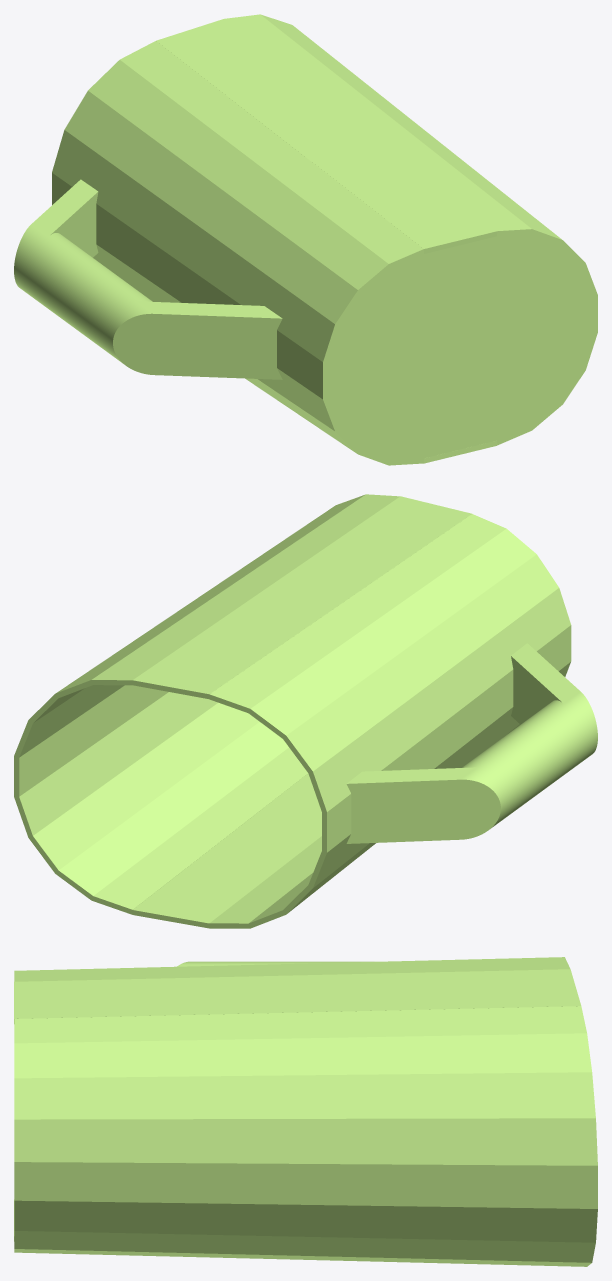
File: WhiskeyCup.fbx
3 renders of one model, top to bottom at view 1: azimuth 30°, elevation 25°; view 2: azimuth 150°, elevation 25°; view 3: azimuth 270°, elevation 25°, orthographic. The views are drawn at different scales.
Visible parts, largest first — view 1: Blank_Jug; view 2: Blank_Jug; view 3: Blank_Jug.
Boxes of the visible parts, x1,y1,x2,y2 form: Blank_Jug: (14, 14, 597, 465); Blank_Jug: (14, 494, 597, 928); Blank_Jug: (14, 957, 597, 1266).
Bounding box in the file's own units: 1663 × 937 × 1997.
